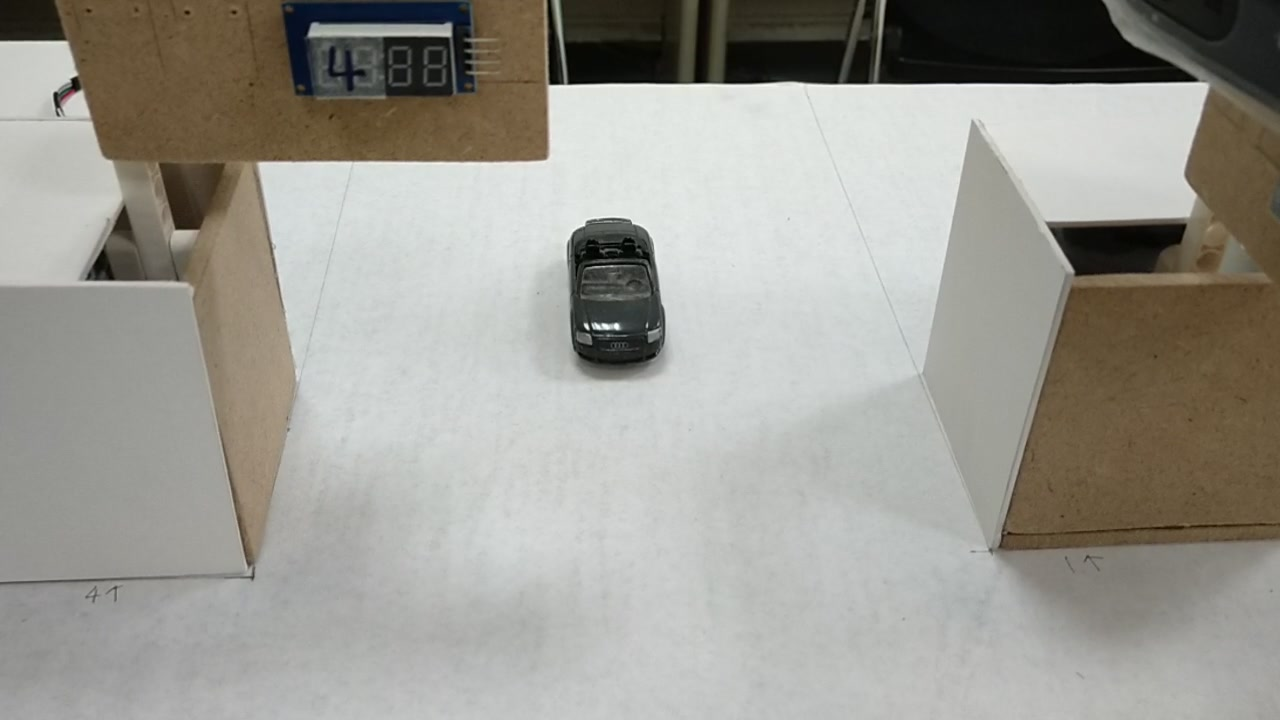car: (568, 219, 671, 367)
